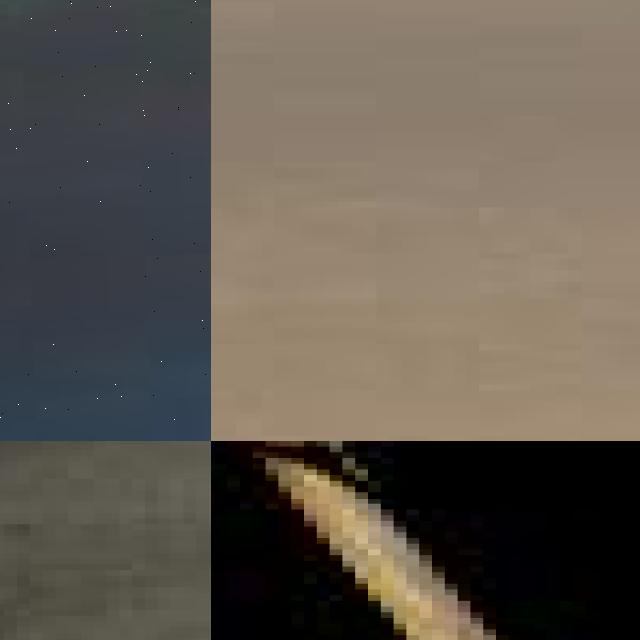street light: (0, 0, 211, 441)
